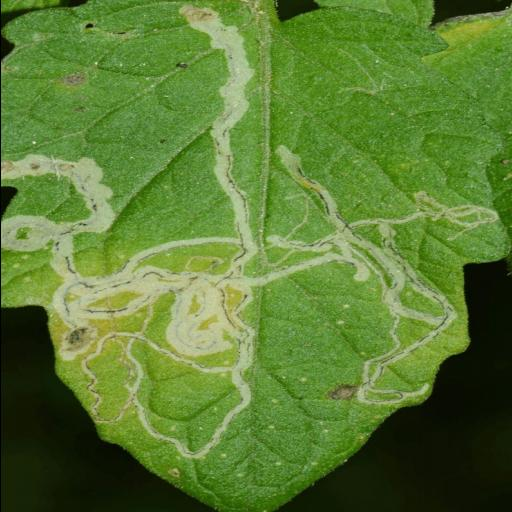Leaf Miner: (0, 3, 510, 512)
